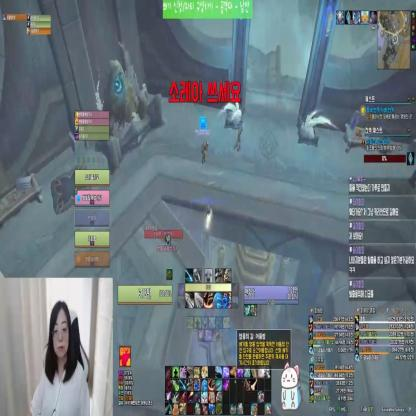streamer: (30, 299, 90, 416)
